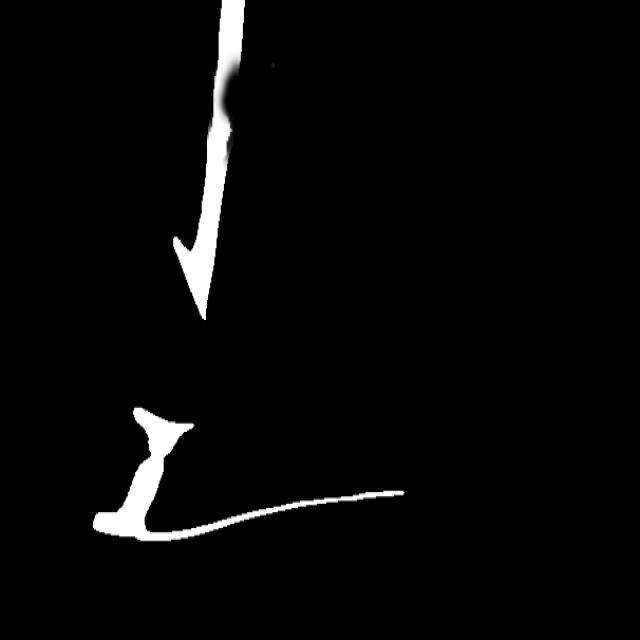sl: (204, 56, 247, 142)
